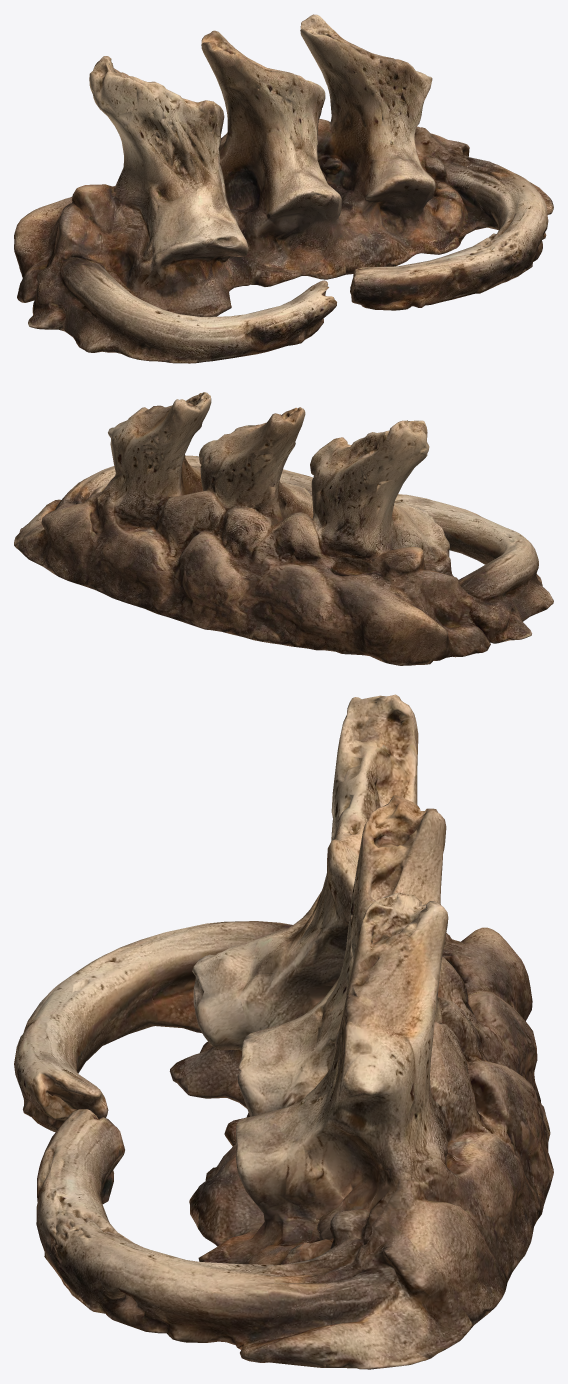
Rendered from 13_Bone_Ribs.glb.
3 renders of one model, top to bottom at view 1: azimuth 30°, elevation 25°; view 2: azimuth 150°, elevation 25°; view 3: azimuth 270°, elevation 25°, orthographic. The views are drawn at different scales.
Bounding box in the file's own units: 1.9 × 0.7834 × 1.07.
1 material, 1 textured.
